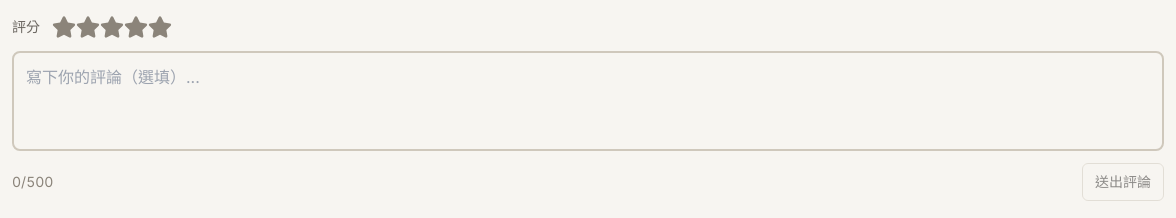
Test: CommentForm › 顯示目前字數與上限
Expected: the text "0/500" is shown, [12,170,53,194]
Type "很棒" into the text box named "評論內容" at (588, 101), box [12,51,1164,151]
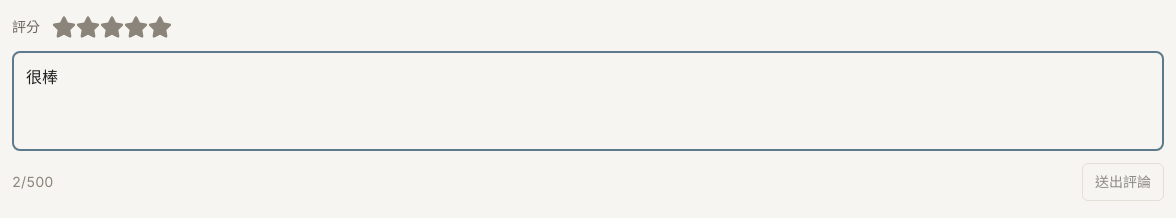
Expected: the text "2/500" is shown, [12,170,53,194]
